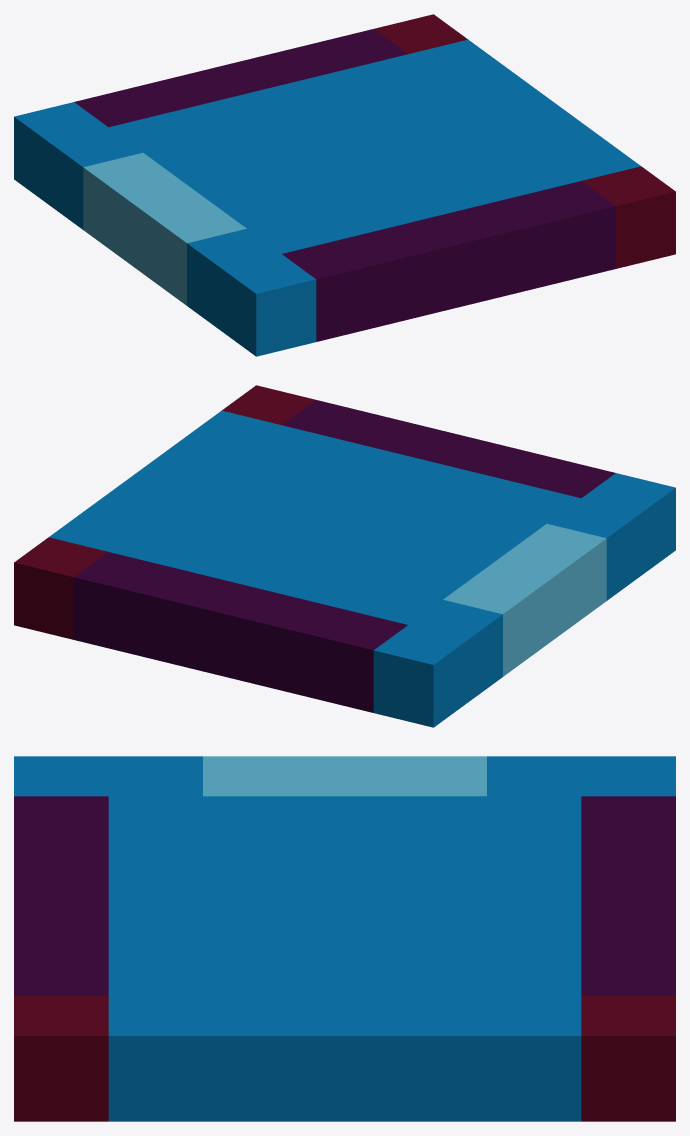
The model's file is Shirt00.gltf.
3 views of the same model, one above another, from view 1: azimuth 30°, elevation 25°; view 2: azimuth 150°, elevation 25°; view 3: azimuth 270°, elevation 25° (orthographic). The views are drawn at different scales.
Parts seen in each view (by area): view 1: Layer.1; view 2: Layer.1; view 3: Layer.1.
Boxes of the visible parts, <box> form: Layer.1: <box>14,14,675,356</box>; Layer.1: <box>14,385,675,727</box>; Layer.1: <box>14,756,675,1121</box>.
Bounding box in the file's own units: 7 × 1 × 7.
